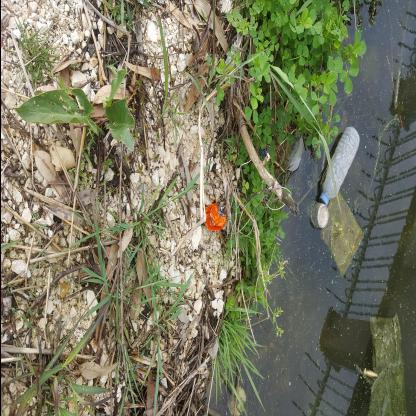plastik: (128, 59, 208, 99), (205, 193, 233, 215)
